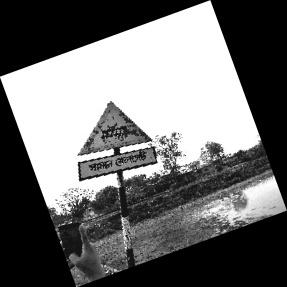Rail-crossing: (76, 101, 157, 183)
